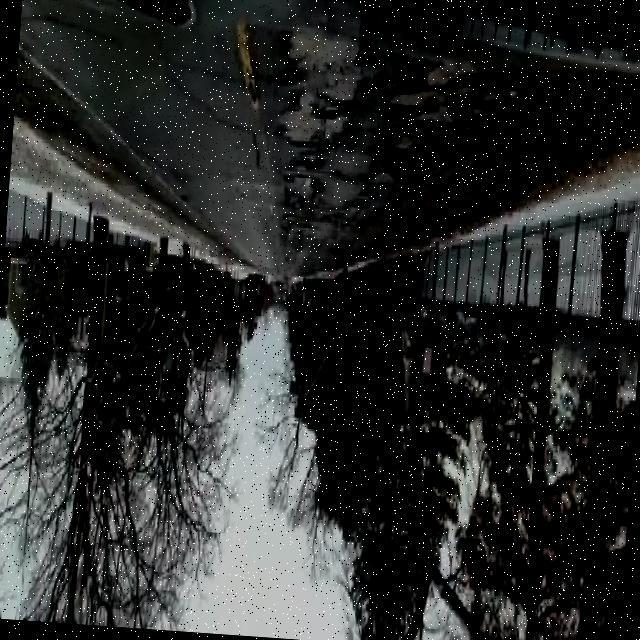Pothole: (280, 35, 490, 146), (368, 113, 453, 187), (282, 166, 374, 230), (335, 163, 390, 204), (379, 103, 439, 124), (506, 65, 548, 89), (457, 120, 483, 149), (292, 152, 322, 170), (478, 93, 506, 112)
